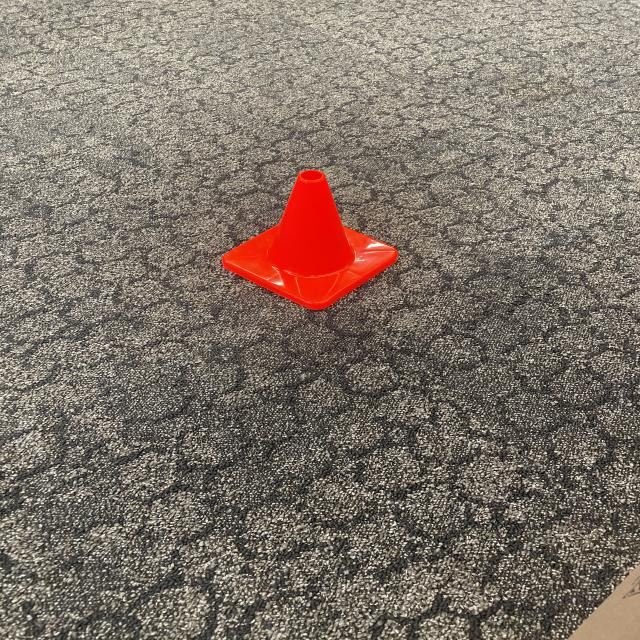Traffic Cone: (220, 170, 395, 309)
